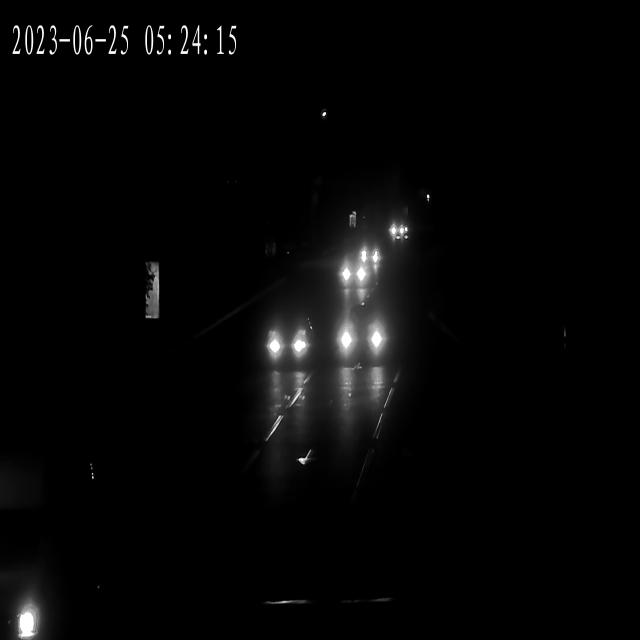Car: (261, 304, 316, 378), (334, 304, 388, 366), (336, 254, 370, 297), (356, 242, 386, 283), (388, 220, 411, 248)
